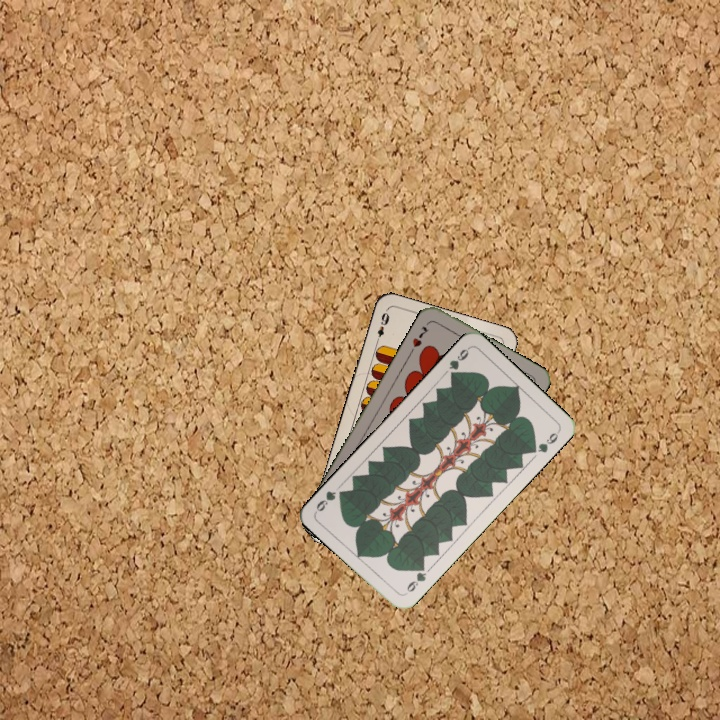E9: (372, 307, 392, 346)
G9: (445, 343, 472, 381), (403, 561, 429, 595)
H7: (408, 322, 431, 350)
